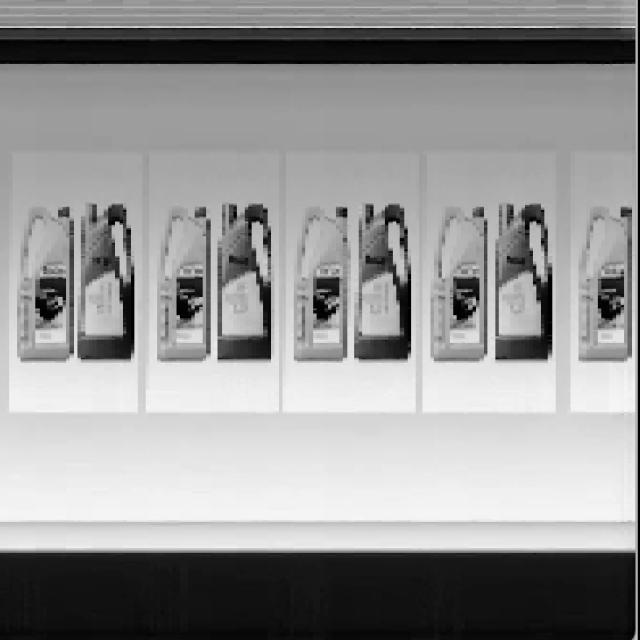motor_oil: (350, 204, 422, 369), (489, 191, 556, 366), (573, 195, 636, 372), (76, 199, 140, 369), (147, 203, 213, 364), (285, 200, 350, 363), (425, 196, 488, 363), (213, 205, 278, 362), (11, 206, 74, 366)
